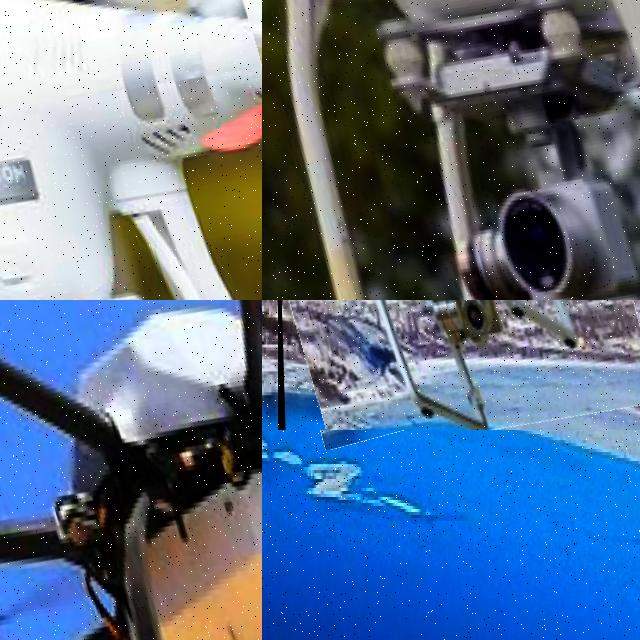0: (262, 0, 640, 300), (0, 0, 262, 300), (278, 300, 640, 430)
drone: (0, 300, 262, 640)
